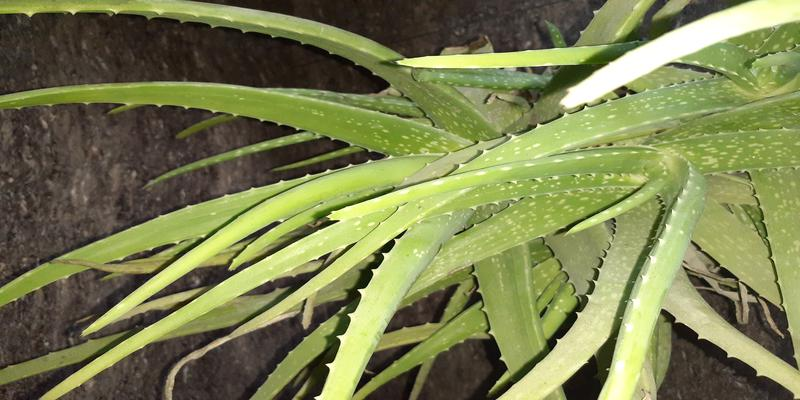Aloevera: (175, 85, 762, 370)
